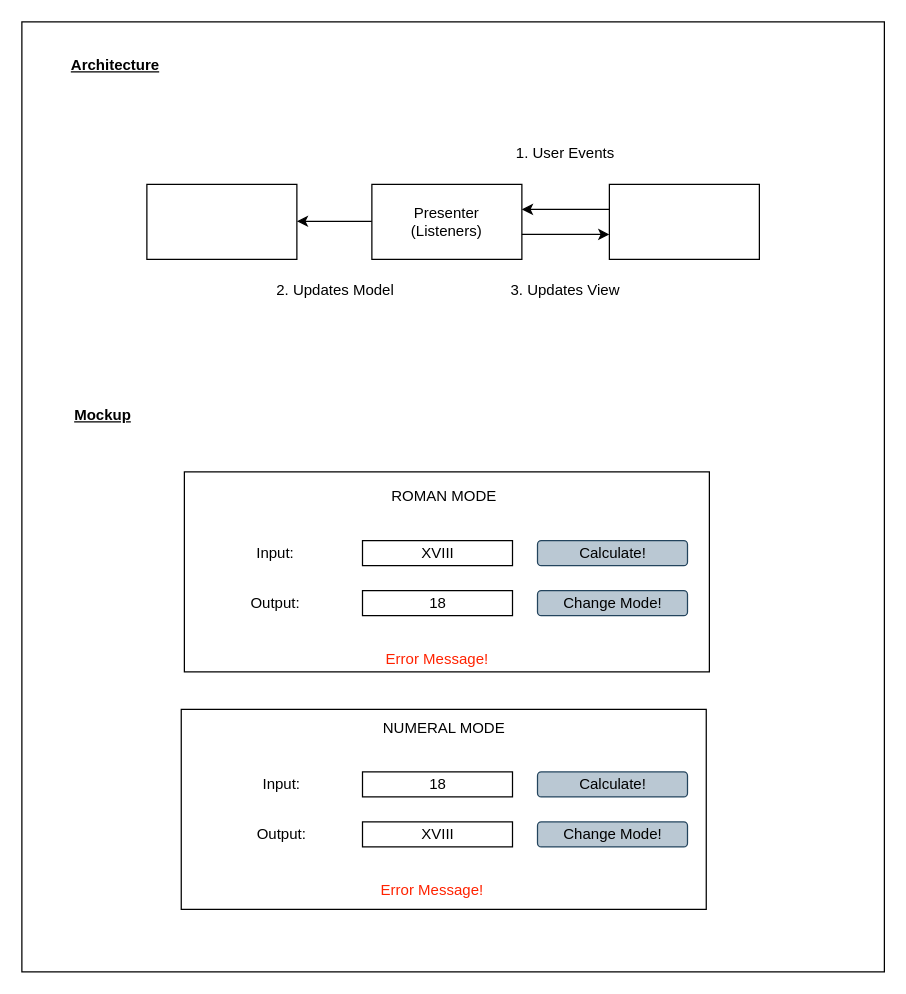
Image size: 906x994. Some labels were removed from this diagram. Each missing label, with the centre of its shape:
"Model (Data and Calculations)" belongs at (221,221).
"View (Swing)" belongs at (683,221).
